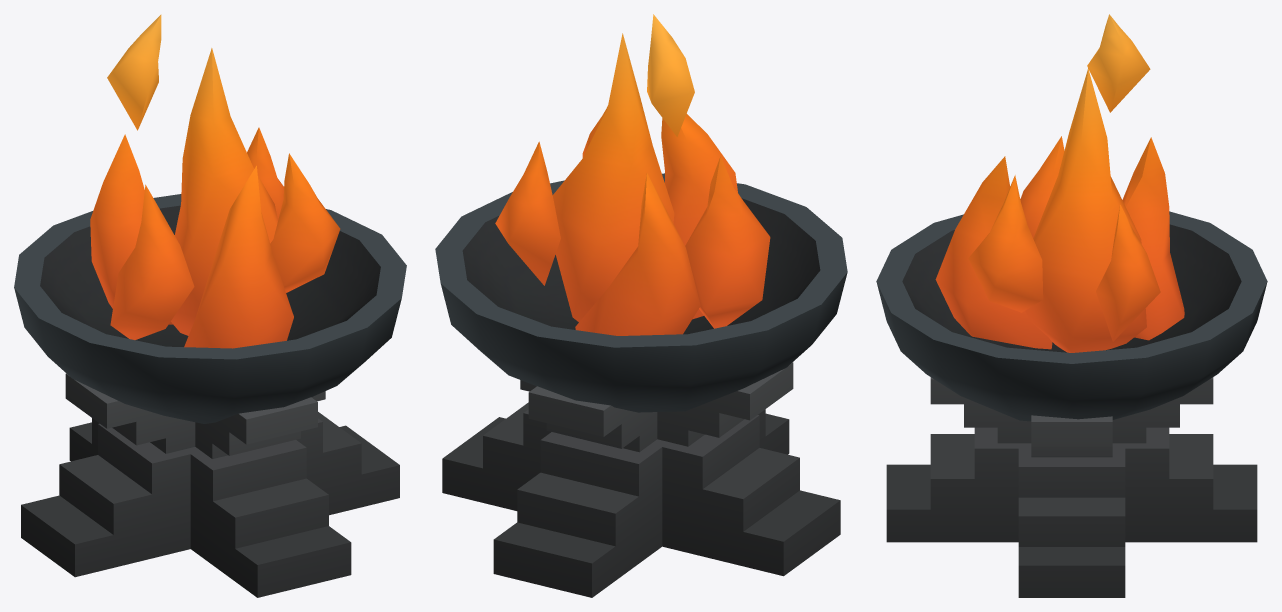
File: fire_002.glb
The picture shows the model from 3 angles, left to right: view 1: azimuth 30°, elevation 25°; view 2: azimuth 150°, elevation 25°; view 3: azimuth 270°, elevation 25°; orthographic projection. The views are drawn at different scales.
Visible parts, largest first — view 1: fire_002; view 2: fire_002; view 3: fire_002.
Part boxes in pixels (x1,y1,x2,y2): fire_002: (14,14,406,597); fire_002: (435,14,847,597); fire_002: (876,14,1267,597).
Size of the model in its own units: 2.11 by 2.92 by 2.11.
Materials: 2 (2 with a texture image).
